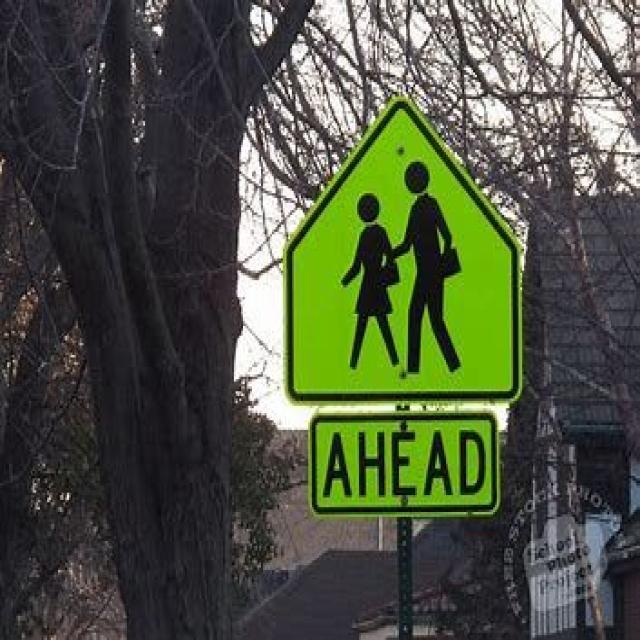school ahead: (280, 100, 524, 401)
